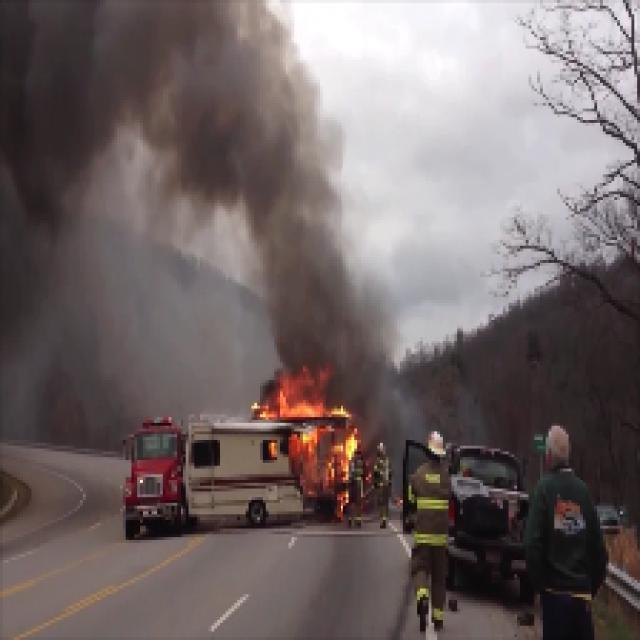Smoke: (12, 17, 262, 135), (252, 202, 356, 352), (225, 150, 333, 188)
